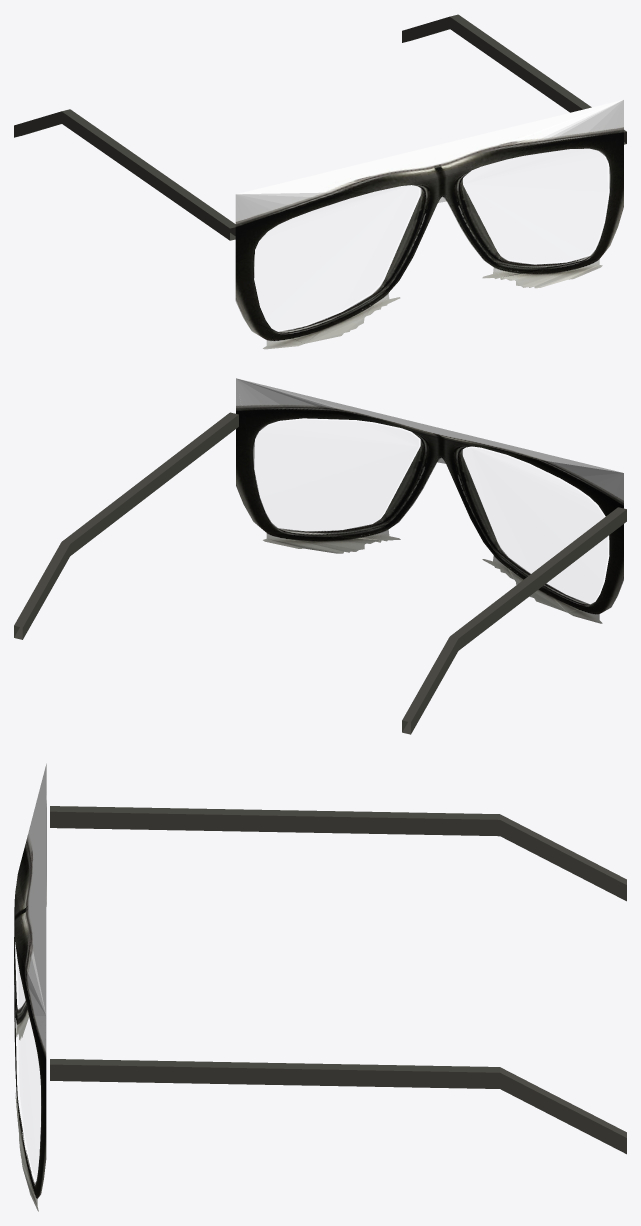
The model's file is gothamstyle-flex-77_black.glb.
3 renders of one model, top to bottom at view 1: azimuth 30°, elevation 25°; view 2: azimuth 150°, elevation 25°; view 3: azimuth 270°, elevation 25°, orthographic. The views are drawn at different scales.
Parts seen in each view (by area): view 1: frame_front, temple_viewer_left, temple_viewer_right; view 2: frame_front, temple_viewer_left, temple_viewer_right; view 3: temple_viewer_left, temple_viewer_right, frame_front.
Boxes of the visible parts, x1,y1,x2,y2 form: frame_front: (235, 99, 623, 349); temple_viewer_left: (14, 109, 235, 240); temple_viewer_right: (402, 14, 626, 144); frame_front: (236, 378, 623, 623); temple_viewer_left: (402, 507, 626, 734); temple_viewer_right: (14, 412, 238, 639); temple_viewer_left: (50, 806, 626, 901); temple_viewer_right: (50, 1059, 626, 1154); frame_front: (14, 763, 46, 1211).
Size of the model in its own units: 0.1358 by 0.0527 by 0.136.
Materials: 3 (2 with a texture image).
